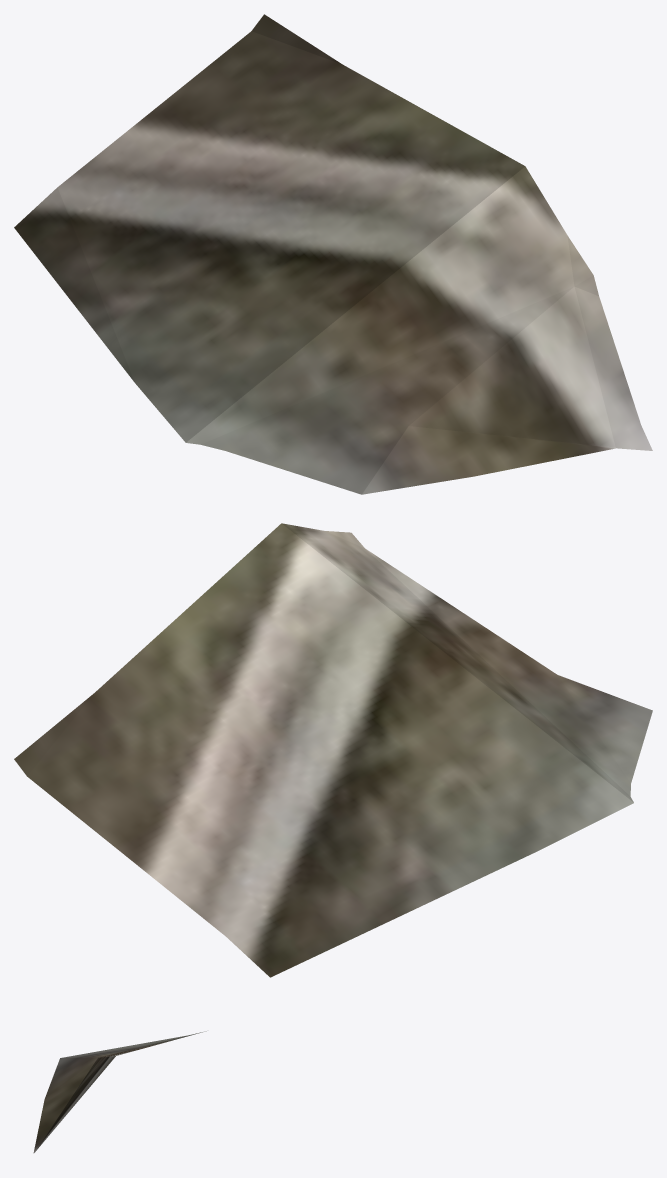
The picture shows the model from 3 angles, top to bottom: view 1: azimuth 30°, elevation 25°; view 2: azimuth 150°, elevation 25°; view 3: azimuth 270°, elevation 25°; orthographic projection. The views are drawn at different scales.
Bounding box in the file's own units: 0.6949 × 0.3718 × 1.37.
Materials: 1 (1 with a texture image).
